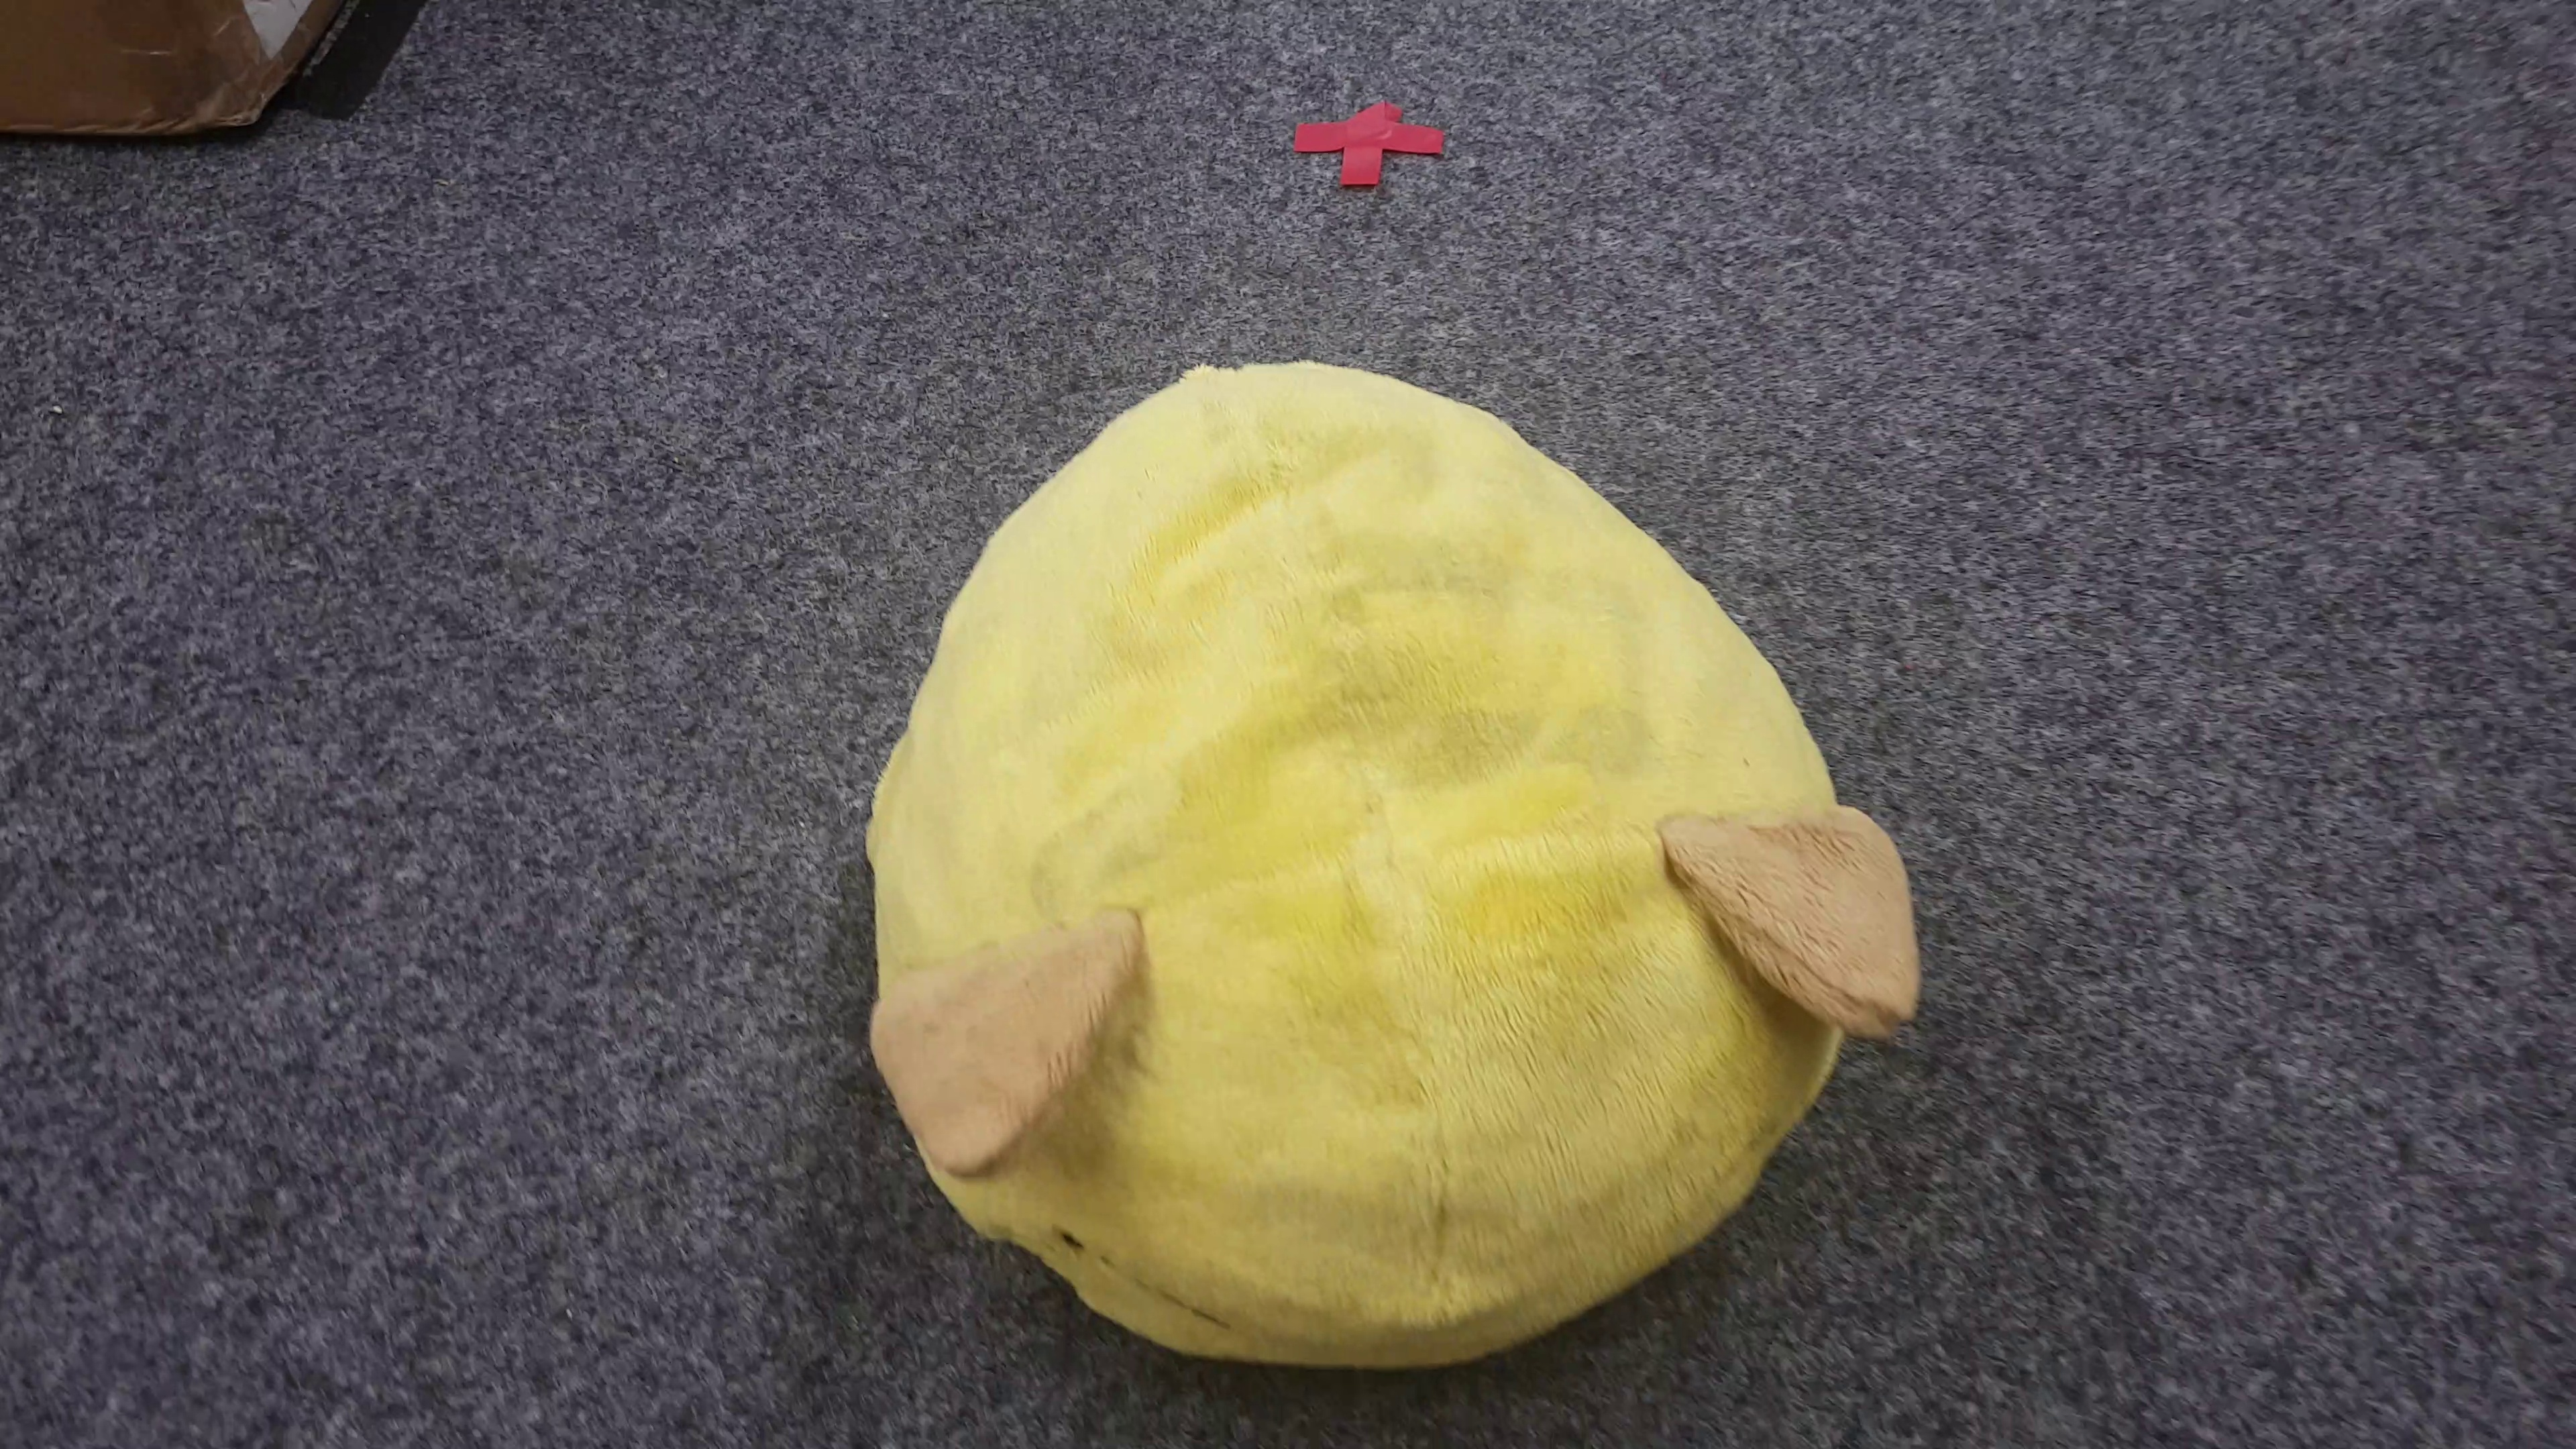grasp: (862, 357, 1920, 1352)
